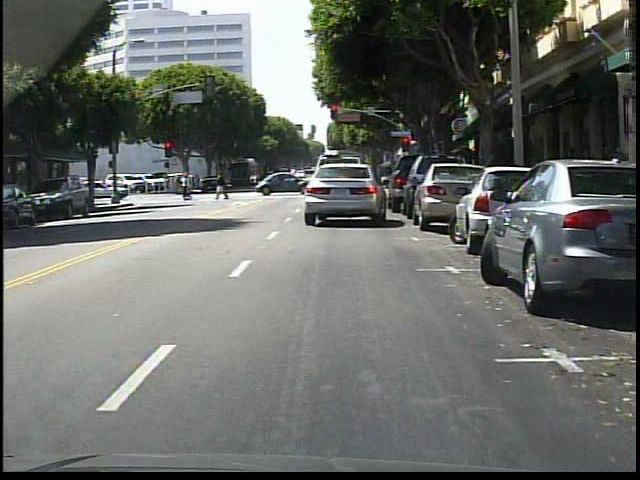person: (216, 172, 230, 201), (181, 174, 195, 200), (270, 171, 278, 191)
